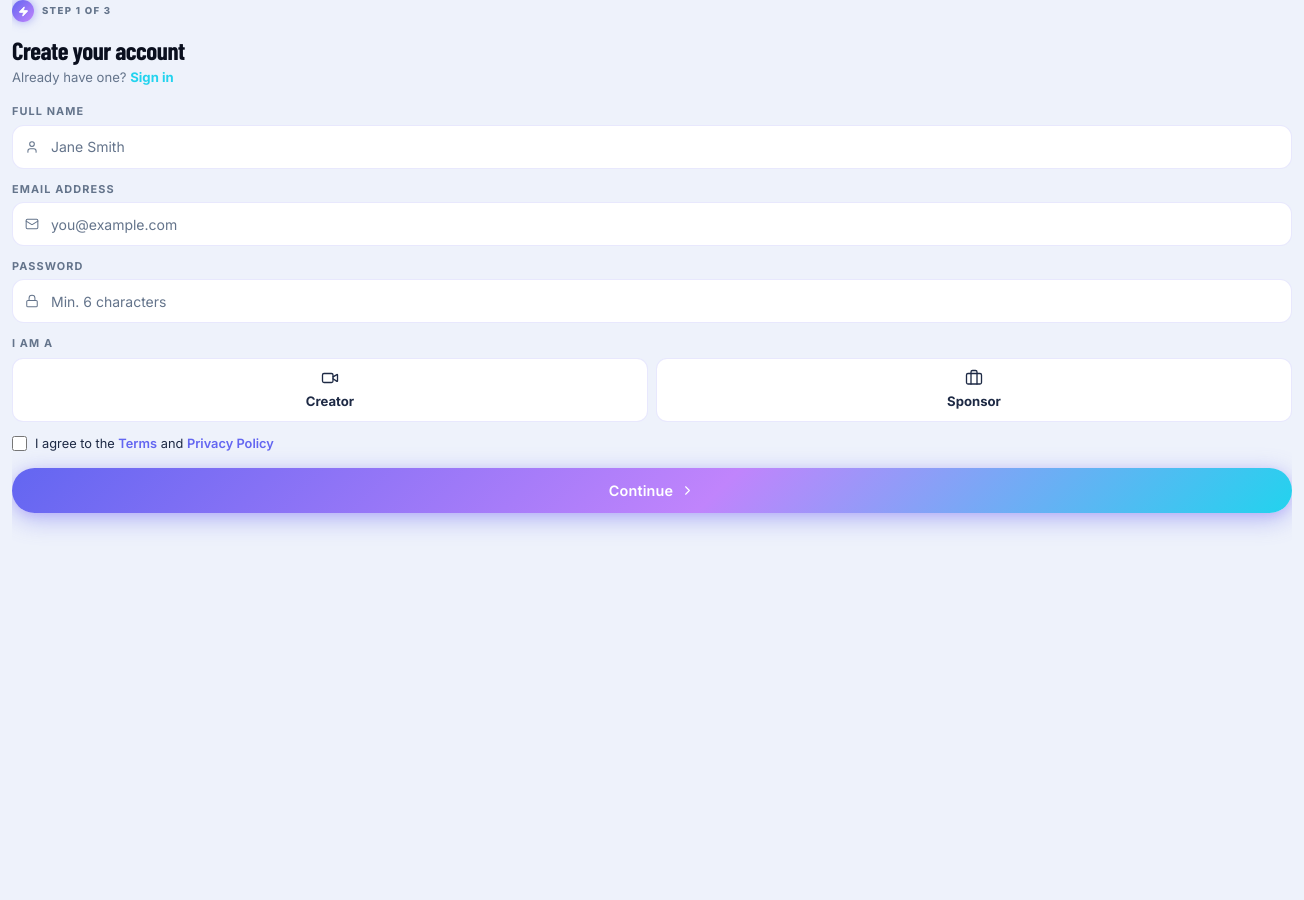
Test: SignUpStep1 › shows email error for invalid email format
Type "notanemail" into the field with id "email" at (652, 224), box [12,202,1292,246]
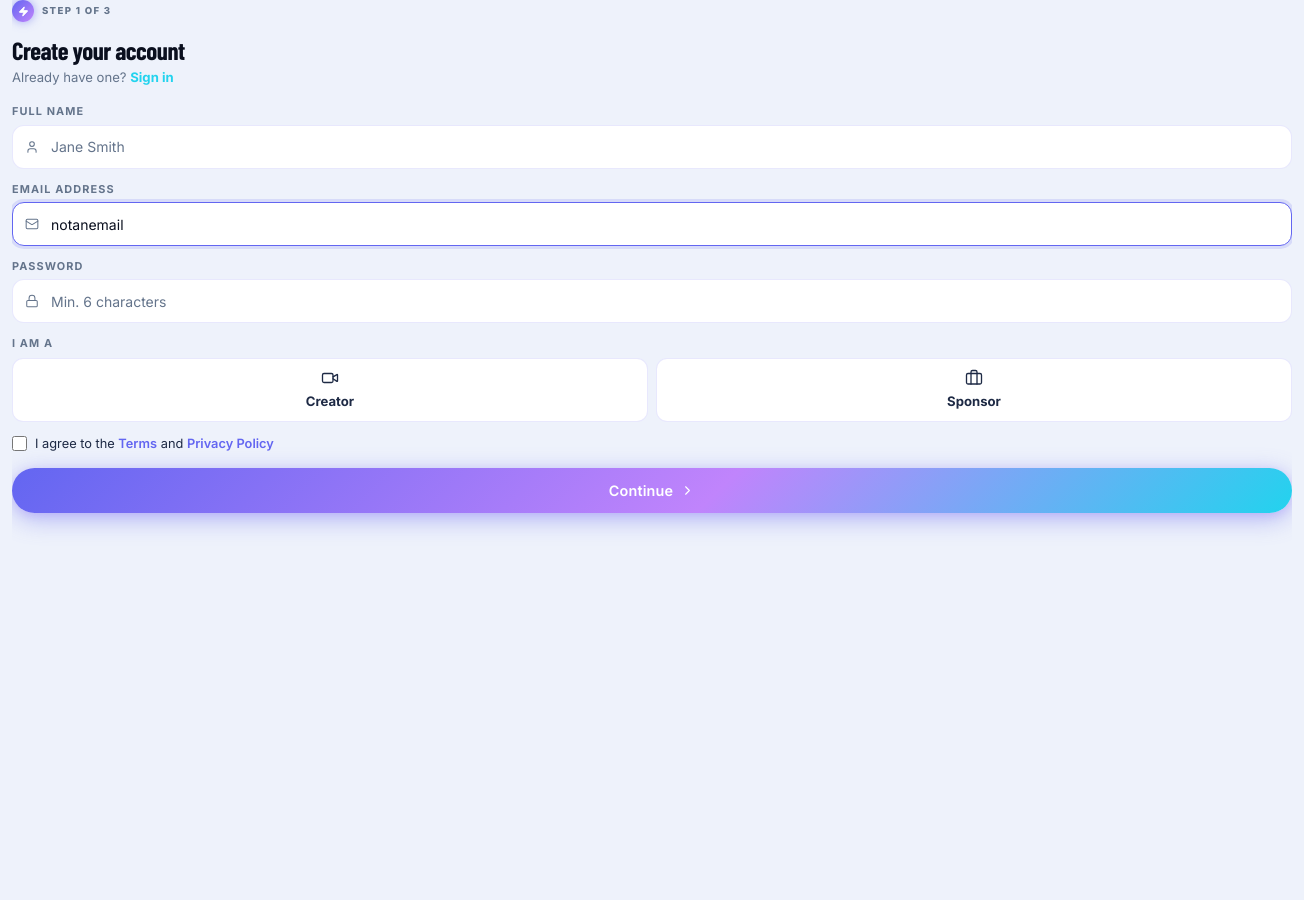
Click the button "Continue" at (652, 490), box [12,468,1292,513]
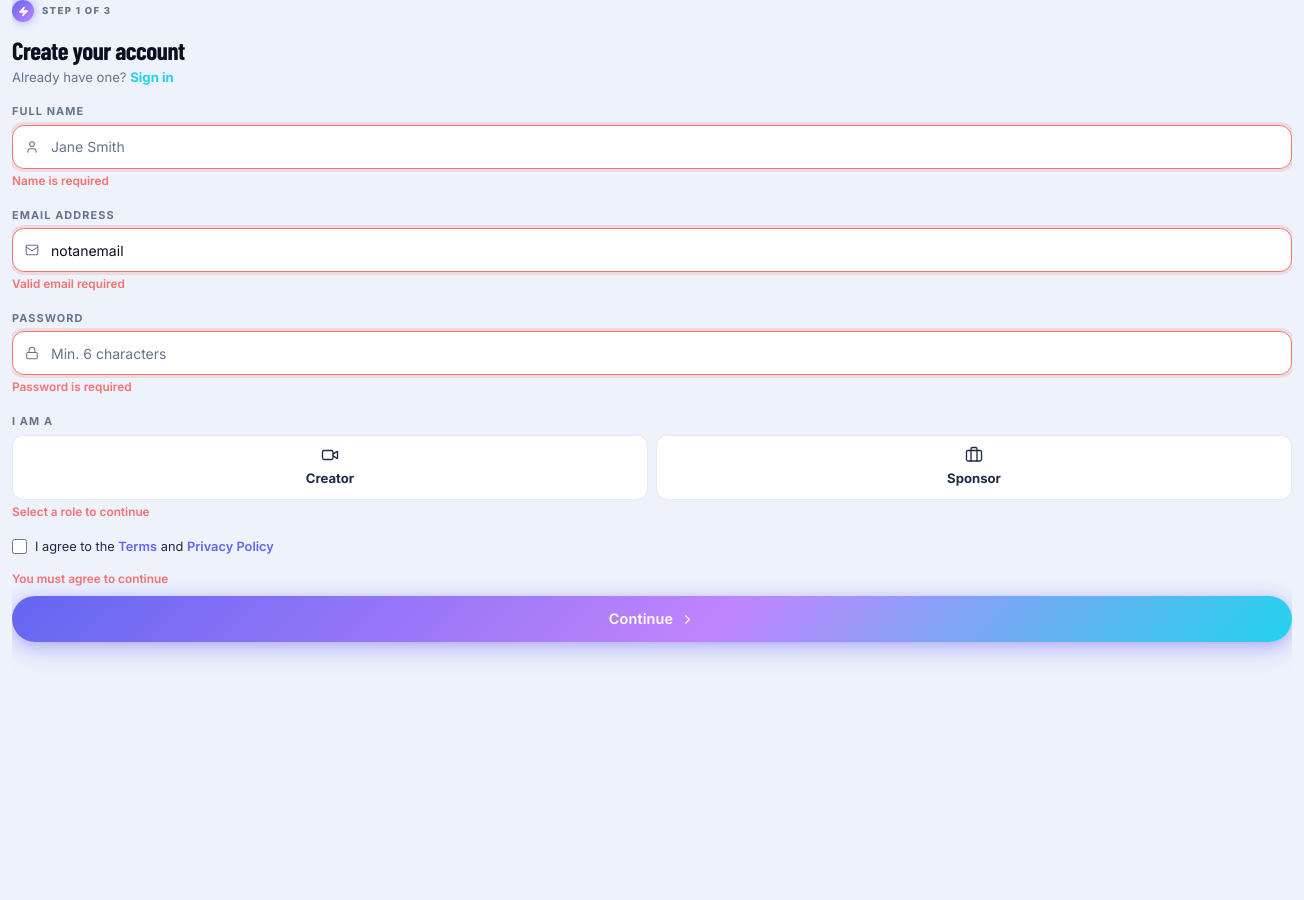
Expected: the text "Valid email required" is shown, [12,277,125,291]
